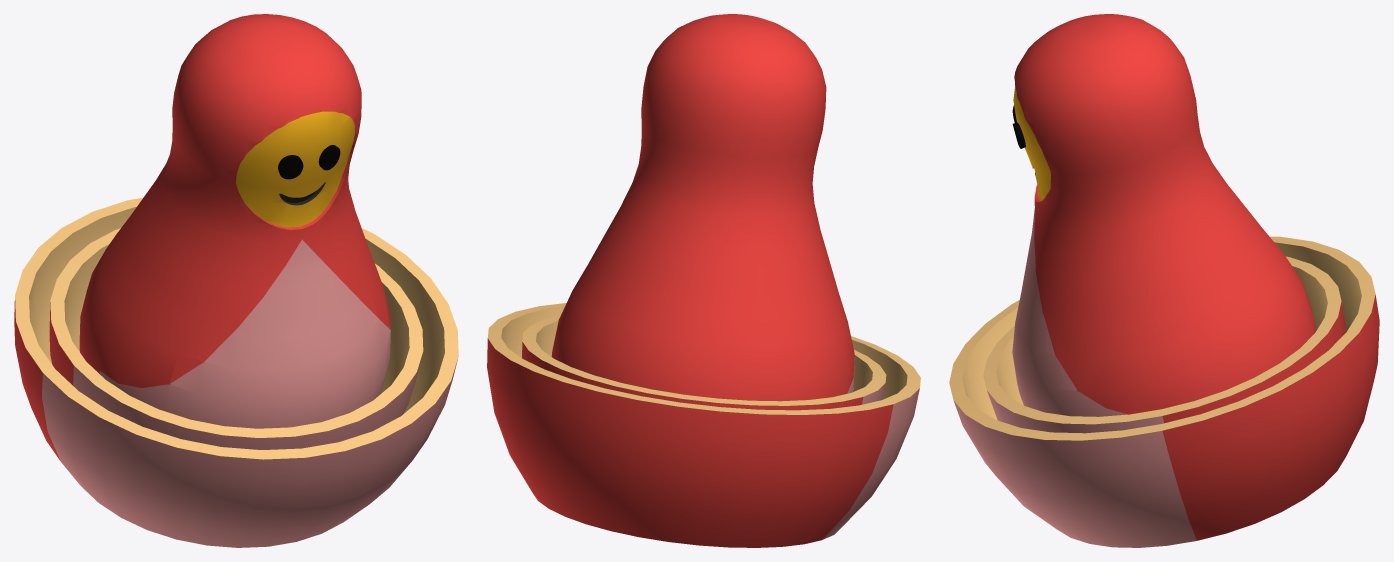
The model's file is nesting_dolls.glb.
3 views of the same model, side by side, from view 1: azimuth 30°, elevation 25°; view 2: azimuth 150°, elevation 25°; view 3: azimuth 270°, elevation 25° (orthographic). The views are drawn at different scales.
Parts seen in each view (by area): view 1: Sphere.524, Sphere.525, Circle.2536; view 2: Sphere.524, Sphere.525; view 3: Sphere.524, Sphere.525.
Boxes of the visible parts, <box> form: Sphere.524: <box>79,14,390,428</box>; Sphere.525: <box>14,197,458,547</box>; Circle.2536: <box>278,145,340,179</box>; Sphere.524: <box>551,14,854,401</box>; Sphere.525: <box>487,303,920,547</box>; Sphere.524: <box>1012,14,1315,416</box>; Sphere.525: <box>949,236,1379,547</box>.
Size of the model in its own units: 1.81 by 2.2 by 1.78.
Materials: 1 (1 with a texture image).
